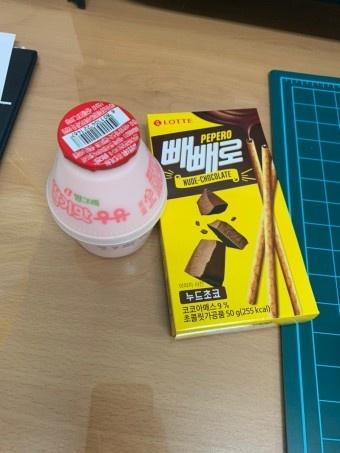snack: (147, 105, 321, 341)
